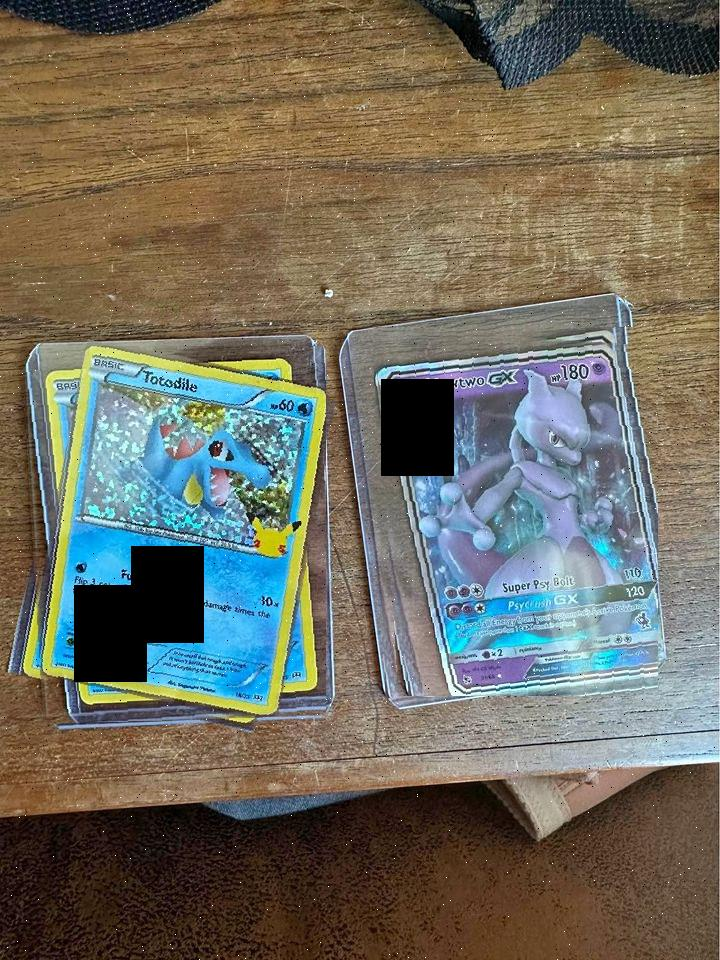card: (41, 346, 326, 718), (378, 344, 658, 696)
